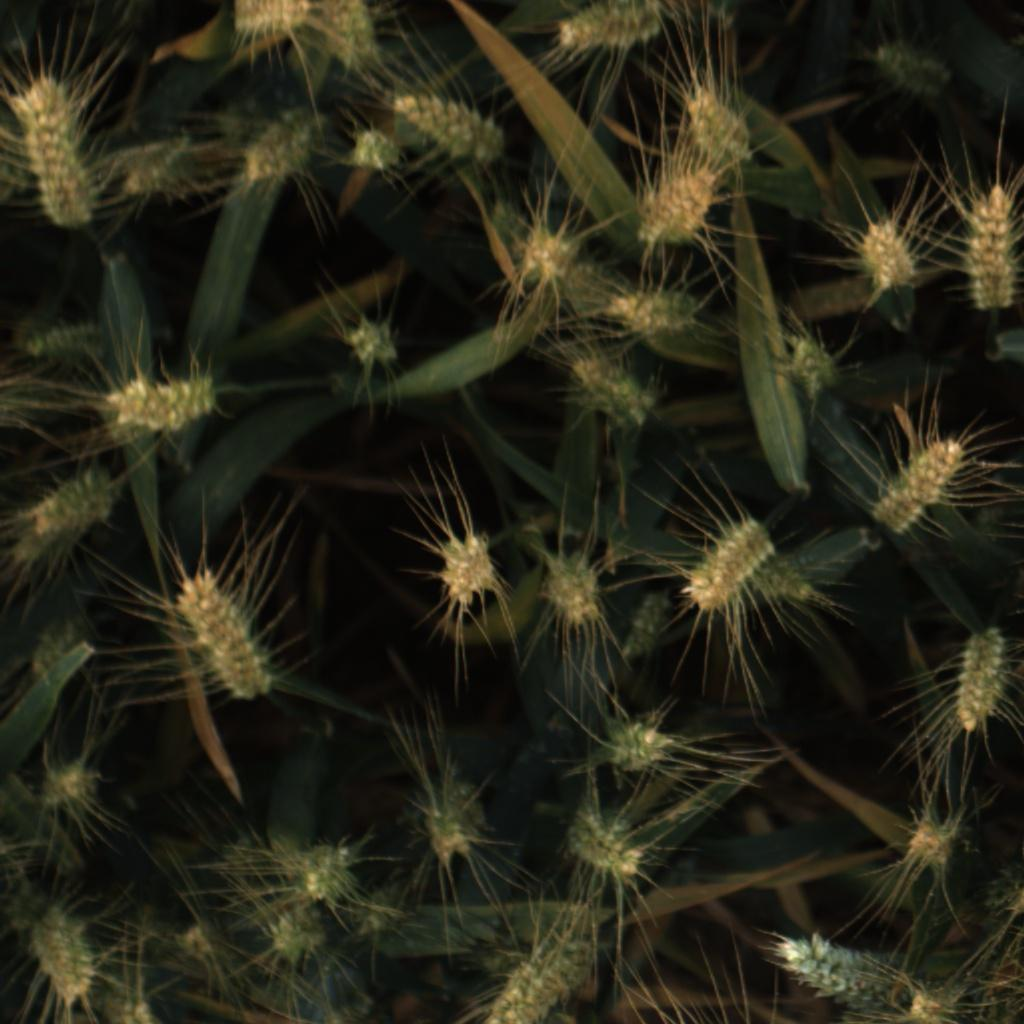0-0: (163, 563, 284, 703), (15, 80, 103, 226), (768, 920, 891, 1008), (470, 944, 601, 1024), (875, 435, 971, 543), (694, 506, 787, 612), (941, 623, 1019, 740), (631, 155, 724, 252), (963, 173, 1024, 318), (28, 456, 118, 551), (561, 353, 662, 433), (394, 88, 511, 157), (107, 361, 217, 434), (534, 532, 615, 631), (860, 28, 960, 108), (231, 106, 324, 190), (564, 806, 656, 888), (29, 899, 101, 1003), (683, 81, 765, 171), (418, 525, 499, 616), (600, 273, 710, 340), (846, 207, 924, 297), (553, 0, 674, 57), (774, 323, 850, 408), (118, 126, 194, 209), (17, 616, 89, 699), (599, 707, 678, 775), (291, 830, 361, 906), (426, 777, 487, 864), (510, 213, 581, 286), (24, 308, 100, 373), (897, 805, 967, 874), (335, 308, 405, 376), (259, 899, 329, 967), (620, 583, 676, 667), (30, 756, 106, 817), (320, 0, 380, 76), (559, 257, 615, 327), (225, 0, 311, 43), (899, 972, 969, 1024), (345, 122, 407, 178), (167, 915, 225, 973), (104, 981, 158, 1024), (494, 195, 531, 251)
